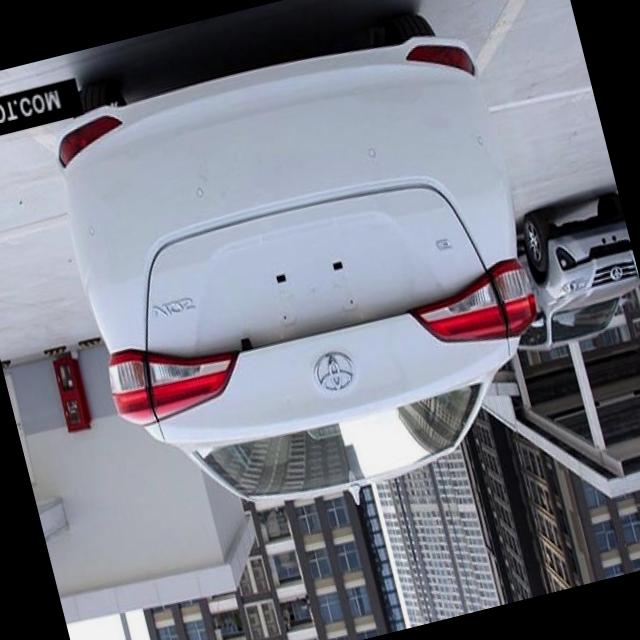ToyotaVios: (33, 0, 576, 551), (484, 189, 640, 359)
